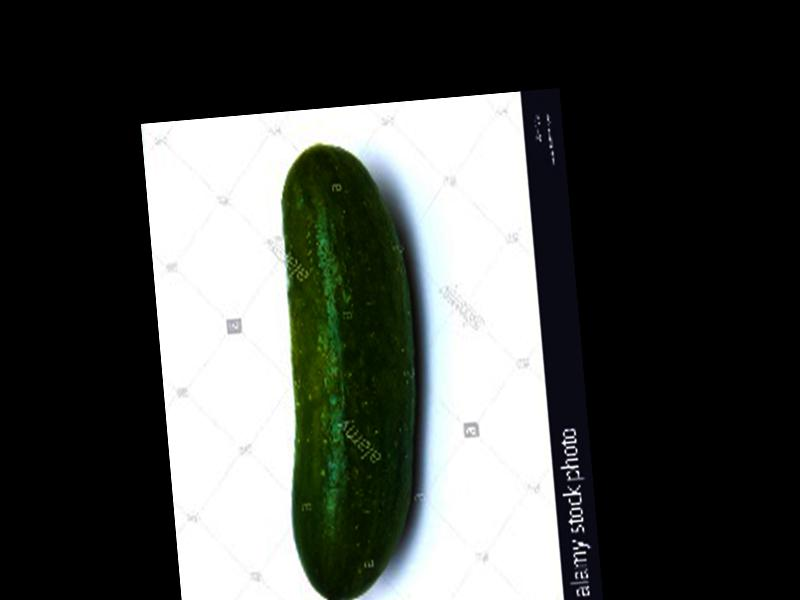Cucumber: (260, 136, 438, 600)
